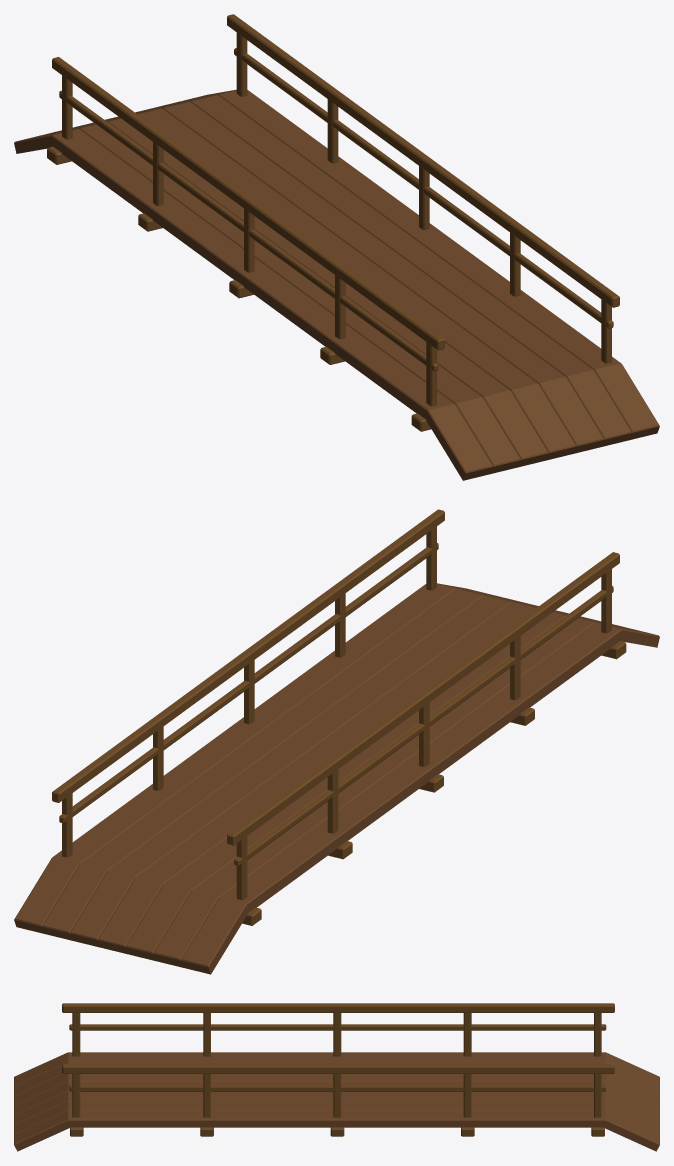
Rendered from bridge_a01.gltf.
3 views of the same model, one above another, from view 1: azimuth 30°, elevation 25°; view 2: azimuth 150°, elevation 25°; view 3: azimuth 270°, elevation 25° (orthographic). The views are drawn at different scales.
Parts seen in each view (by area): view 1: bridge_a01_001; view 2: bridge_a01_001; view 3: bridge_a01_001.
Part boxes in pixels (<box>): bridge_a01_001: <box>14,14,659,480</box>; bridge_a01_001: <box>14,509,659,974</box>; bridge_a01_001: <box>14,1003,659,1151</box>.
Size of the model in its own units: 3.17 by 1.71 by 12.07.
Materials: 1 (1 with a texture image).
